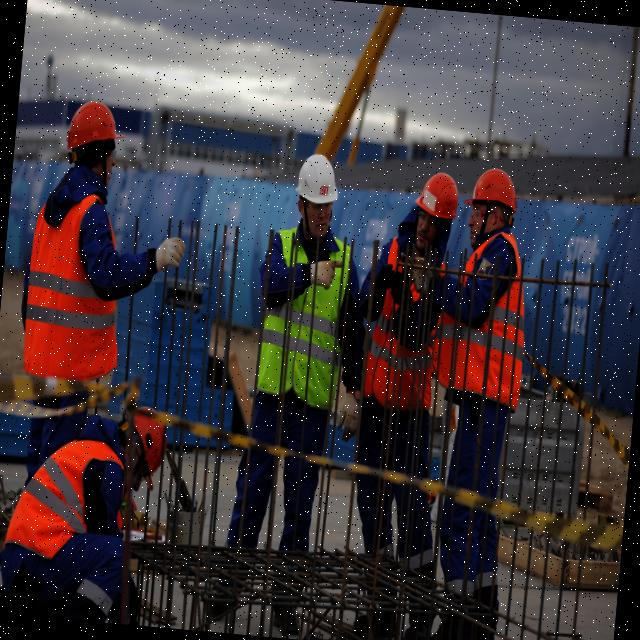Helmet: (119, 405, 169, 493), (66, 98, 128, 154), (465, 168, 523, 218), (294, 151, 343, 210), (414, 171, 463, 225)
Jacket: (21, 183, 110, 387), (258, 233, 351, 399), (442, 233, 526, 393), (363, 250, 438, 406), (23, 441, 122, 559)
